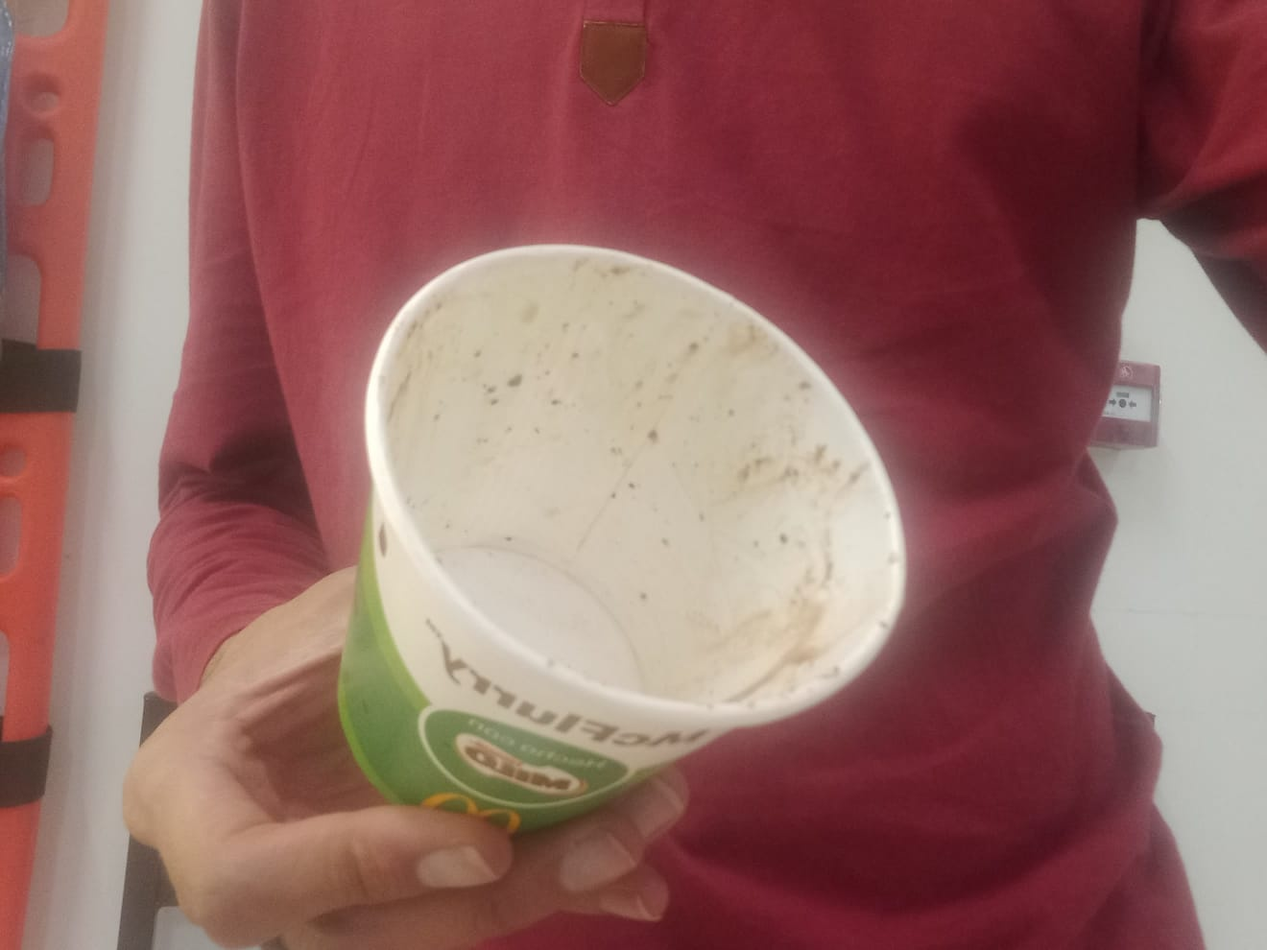Carton: (337, 245, 907, 844)
